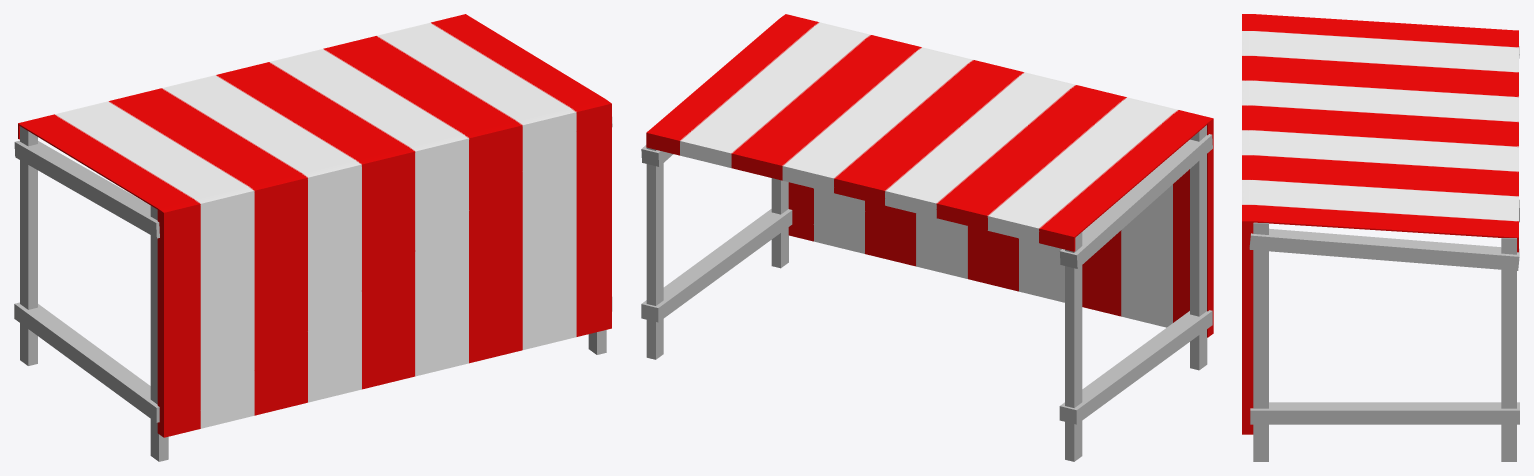
The model's file is stall.fbx.
3 views of the same model, side by side, from view 1: azimuth 30°, elevation 25°; view 2: azimuth 150°, elevation 25°; view 3: azimuth 270°, elevation 25° (orthographic). The views are drawn at different scales.
Visible parts, largest first — view 1: Stall; view 2: Stall; view 3: Stall.
Boxes of the visible parts, <box> form: Stall: <box>14,14,612,461</box>; Stall: <box>641,14,1213,461</box>; Stall: <box>1242,14,1519,461</box>.
Size of the model in its own units: 1303 by 693 by 726.
